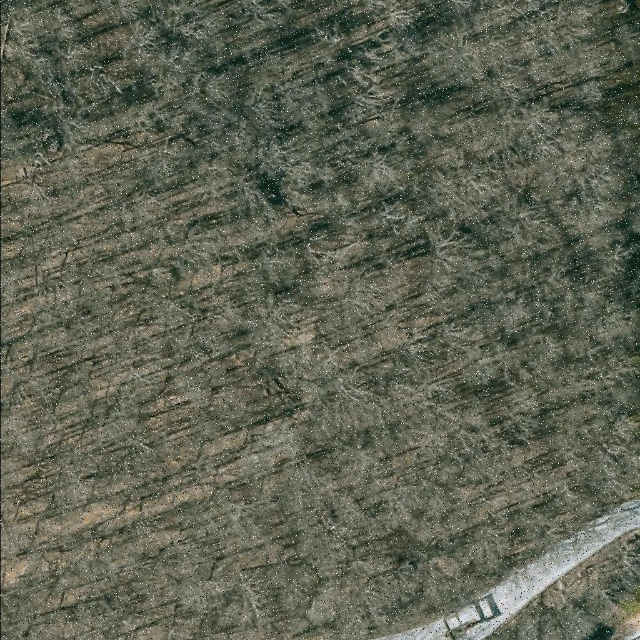vegetation: (1, 1, 638, 640), (491, 528, 639, 640)
